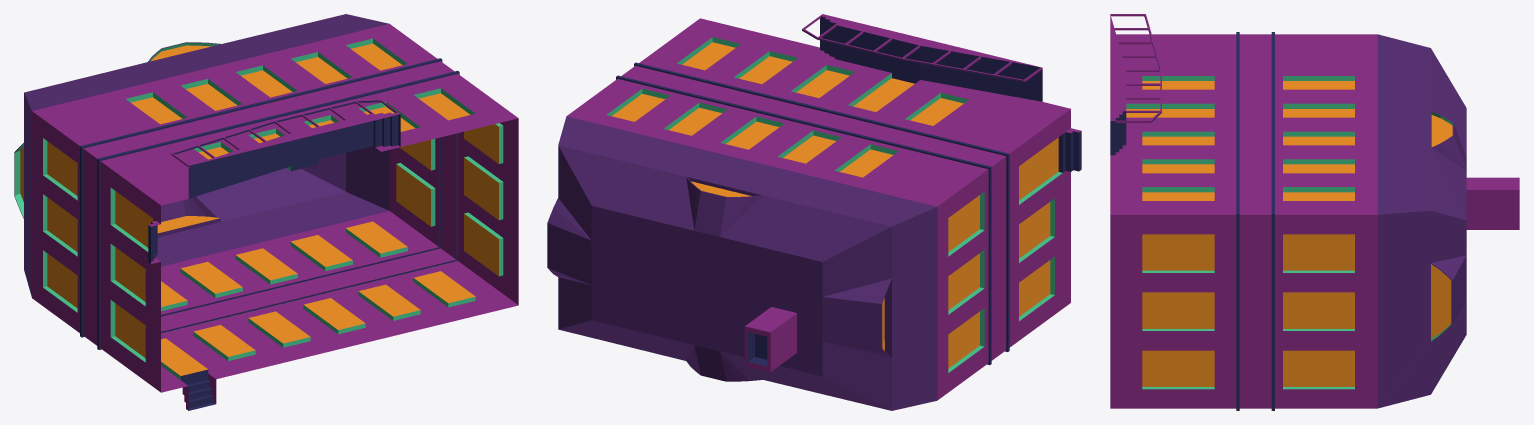
The model's file is Dom_Staroscinski Tier 3.fbx.
3 views of the same model, side by side, from view 1: azimuth 30°, elevation 25°; view 2: azimuth 150°, elevation 25°; view 3: azimuth 270°, elevation 25° (orthographic). The views are drawn at different scales.
Parts seen in each view (by area): view 1: Dom_Starościński; view 2: Dom_Starościński; view 3: Dom_Starościński.
Part boxes in pixels (left/top/right/bottom): Dom_Starościński: left=14, top=14, right=518, bottom=410; Dom_Starościński: left=547, top=14, right=1081, bottom=410; Dom_Starościński: left=1110, top=14, right=1519, bottom=410.
Size of the model in its own units: 3.67 by 2.33 by 3.41.
